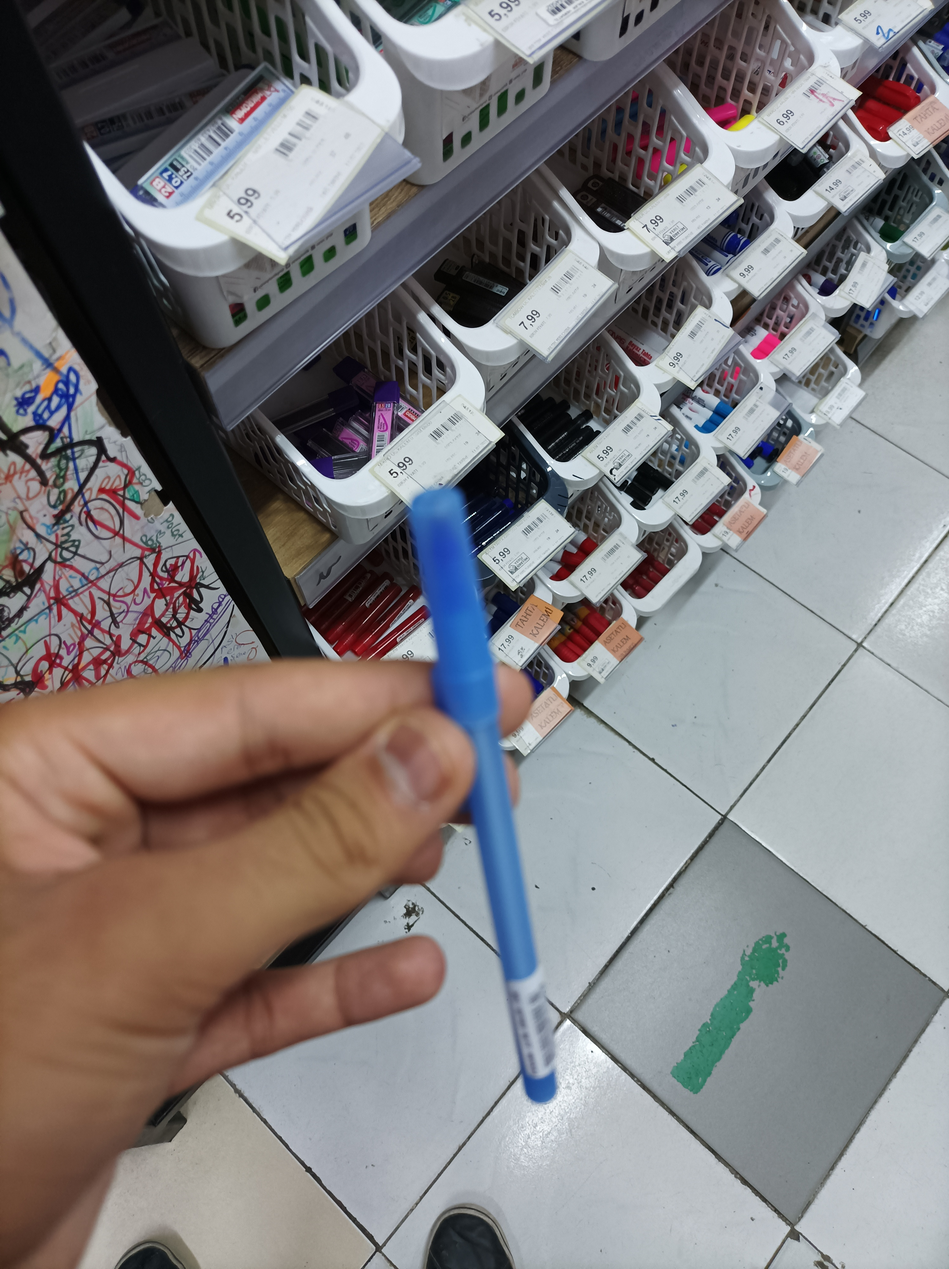plastic: (394, 457, 581, 1142)
